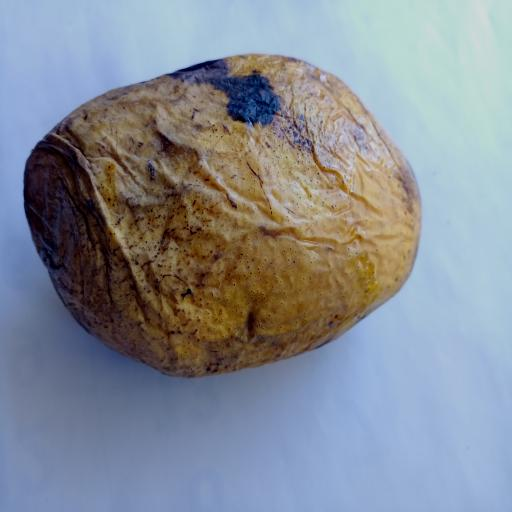mango-overripe: (9, 33, 420, 366)
